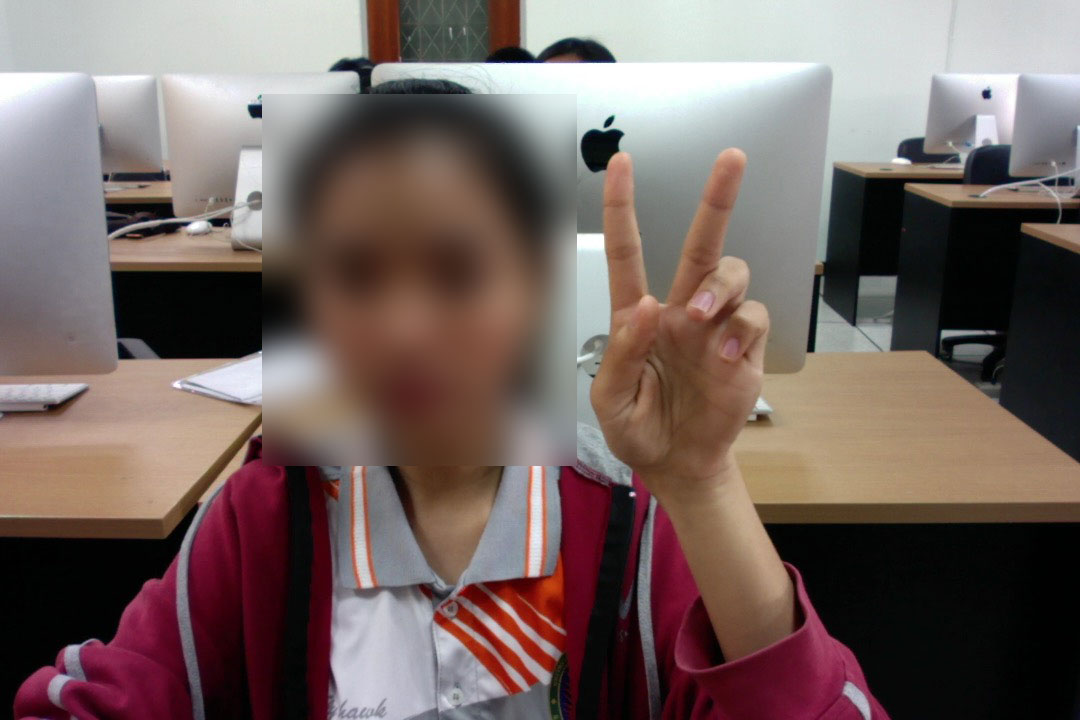ko: (574, 136, 779, 507)
